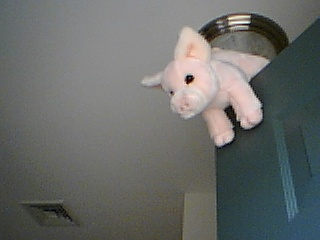piggy: (139, 25, 273, 149)
